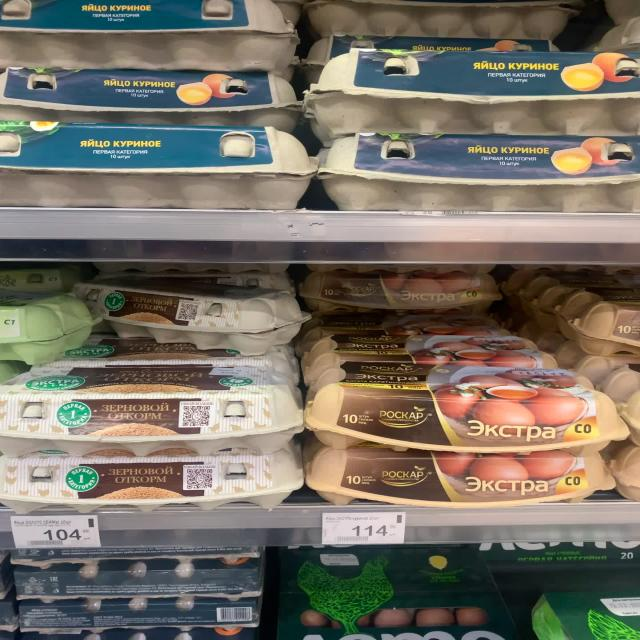egg box: (3, 362, 293, 456), (314, 51, 634, 133), (315, 132, 636, 213), (302, 369, 622, 445), (2, 130, 306, 207), (300, 444, 613, 508), (74, 276, 310, 352), (0, 72, 300, 128), (9, 3, 295, 61), (0, 458, 306, 512), (320, 325, 558, 369)
